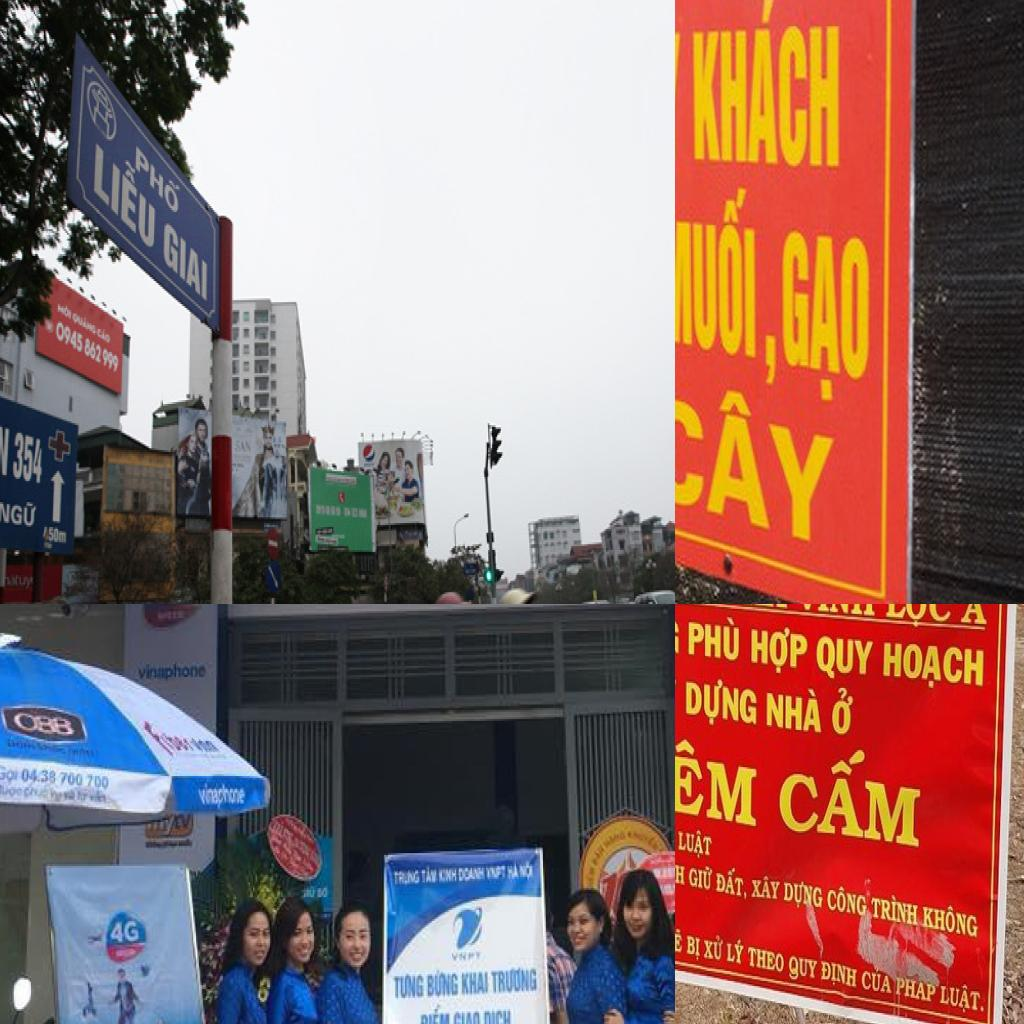text: (692, 0, 842, 173), (675, 181, 780, 395), (776, 735, 925, 853), (780, 222, 872, 412), (675, 711, 761, 832), (98, 131, 162, 256), (881, 637, 987, 695), (684, 671, 758, 735), (132, 142, 184, 218), (166, 218, 210, 306), (763, 679, 824, 737), (749, 622, 810, 678), (816, 632, 877, 684), (687, 610, 742, 664), (20, 765, 112, 793), (922, 898, 980, 940), (12, 427, 46, 494), (938, 978, 986, 1020), (14, 710, 78, 741), (869, 892, 920, 929), (139, 714, 178, 761), (885, 604, 954, 630), (193, 784, 250, 814), (825, 882, 869, 920), (136, 662, 208, 684), (490, 965, 539, 996), (782, 878, 825, 912), (0, 498, 40, 534), (818, 958, 858, 994), (830, 685, 856, 740), (896, 974, 938, 1008), (678, 824, 714, 862), (715, 863, 748, 902), (746, 944, 786, 976), (793, 604, 878, 619), (426, 967, 460, 1002), (392, 970, 426, 1004), (54, 319, 85, 356), (0, 403, 13, 490), (787, 952, 820, 986), (860, 964, 894, 996), (460, 967, 492, 998), (750, 871, 782, 902), (111, 919, 143, 947), (957, 604, 991, 629), (688, 862, 714, 894), (418, 1001, 452, 1024), (73, 308, 98, 339), (702, 931, 725, 964), (42, 523, 70, 548), (726, 936, 746, 968), (82, 335, 103, 365), (392, 868, 422, 888), (481, 1007, 514, 1024), (458, 866, 486, 886), (102, 346, 120, 377), (686, 932, 702, 964), (0, 765, 21, 789), (450, 1009, 483, 1024), (0, 783, 24, 803), (418, 864, 439, 886), (436, 866, 459, 886), (519, 859, 536, 884), (57, 300, 73, 324), (675, 856, 686, 888), (508, 860, 522, 884), (235, 437, 254, 454), (675, 923, 684, 955)
